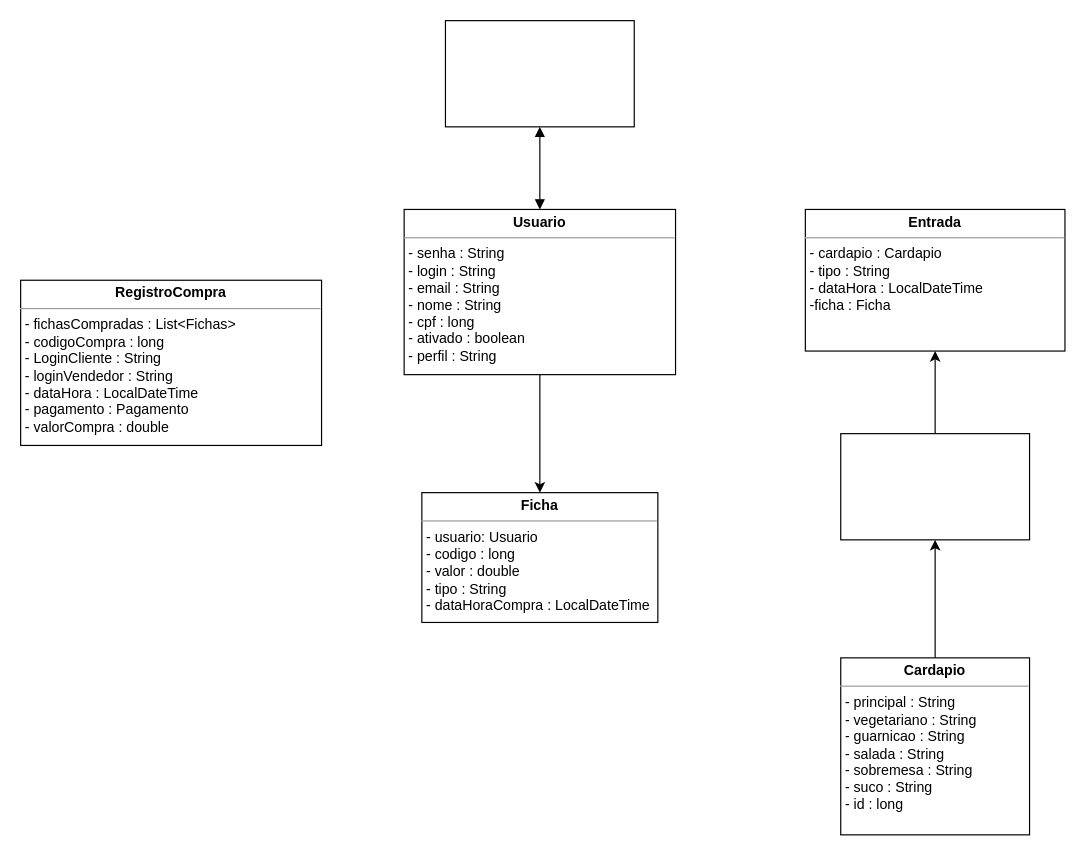
Some shapes in this 1086 by 855 pixel diagram are drawn without their labels. The shapes that lost their labels are listed below. From the top down, each one's box as (x1, y1, x2, y2) in pixels, then its label:
(444, 19, 634, 127): Sessao - usuario : Usuario + login(): boolean
(840, 432, 1030, 540): CardapioPorEntrada - data : Localdate - cardapio: Cardapio - tipo : String
